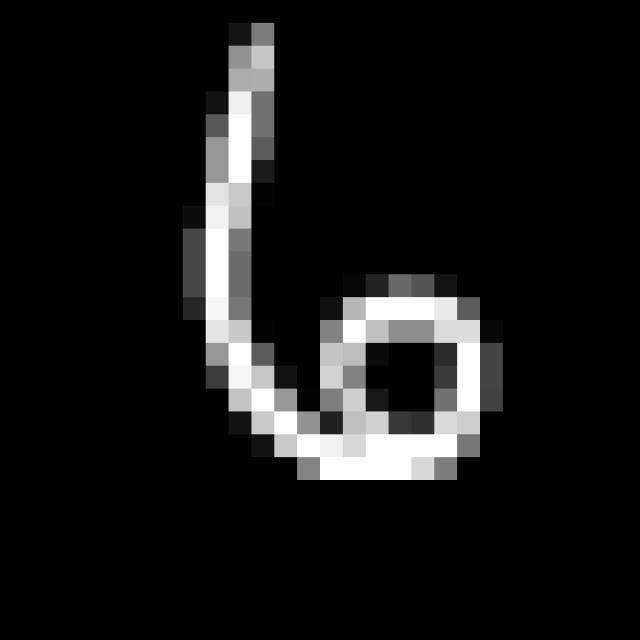six -6-: (197, 16, 497, 498)
